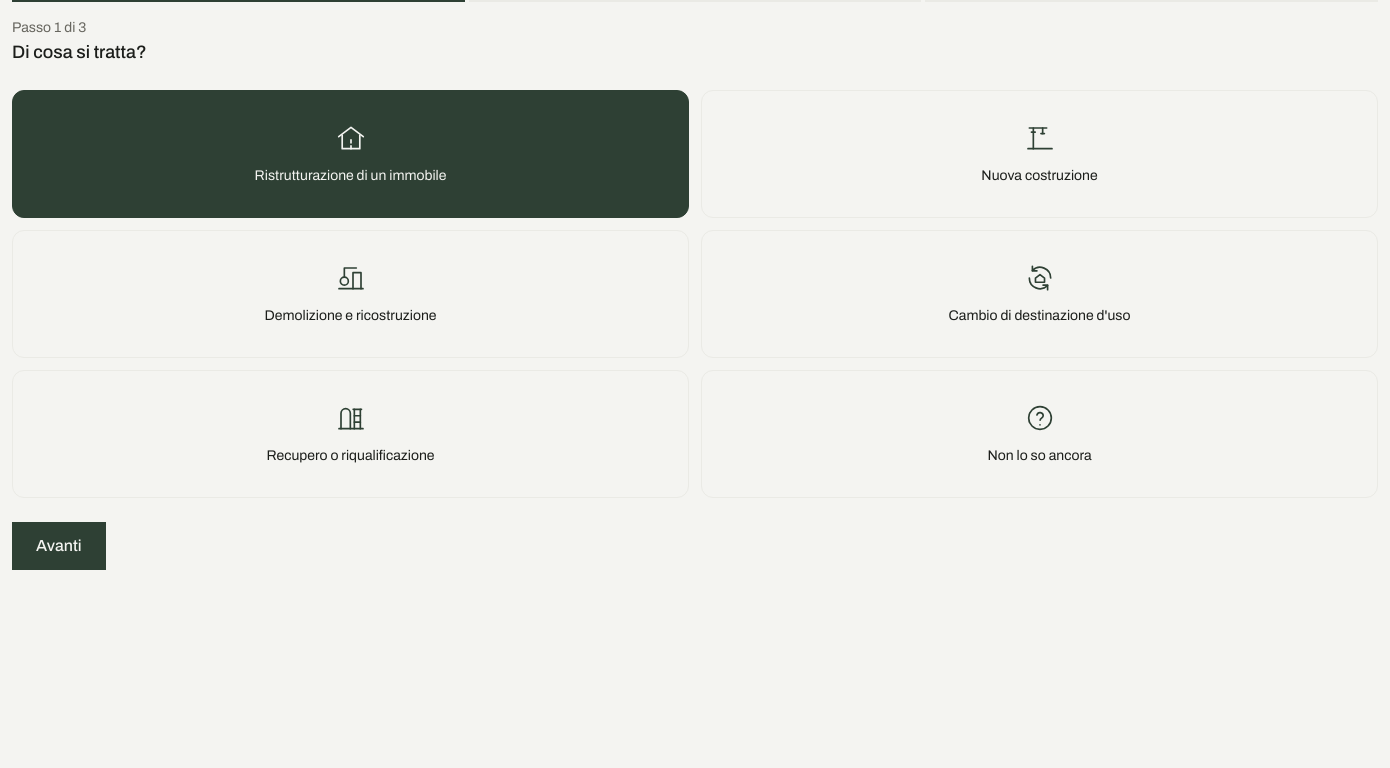
Test: ContactForm › renders the privacy consent checkbox unchecked by default
This screenshot has width=1390, height=768.
Step 1. Click the button "Avanti" → (59,546), box top-left (12, 522), bottom-right (106, 570)
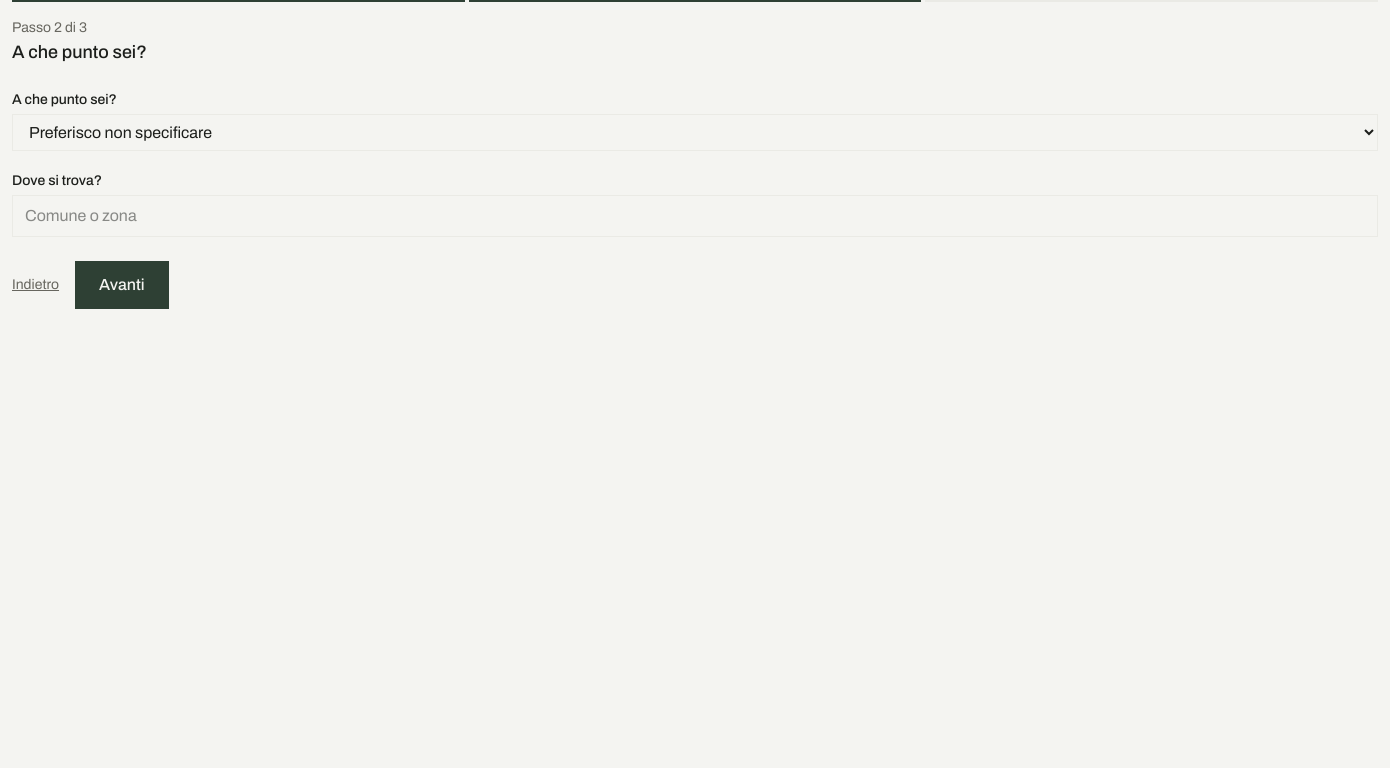
Step 2. Click the button "Avanti" → (122,285), box top-left (75, 261), bottom-right (169, 309)
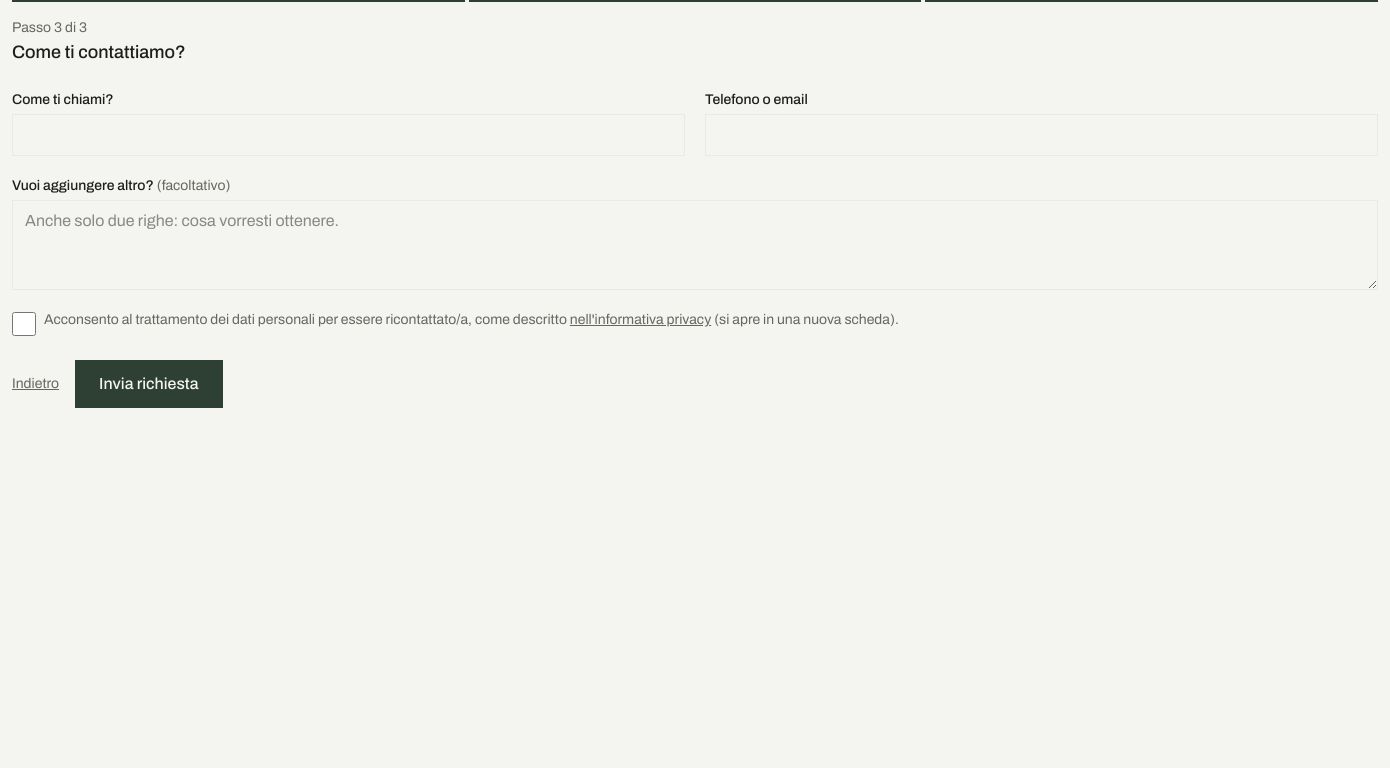
Expected: the checkbox labelled "trattamento dei dati" is not checked, top-left (12, 312), bottom-right (36, 336)
